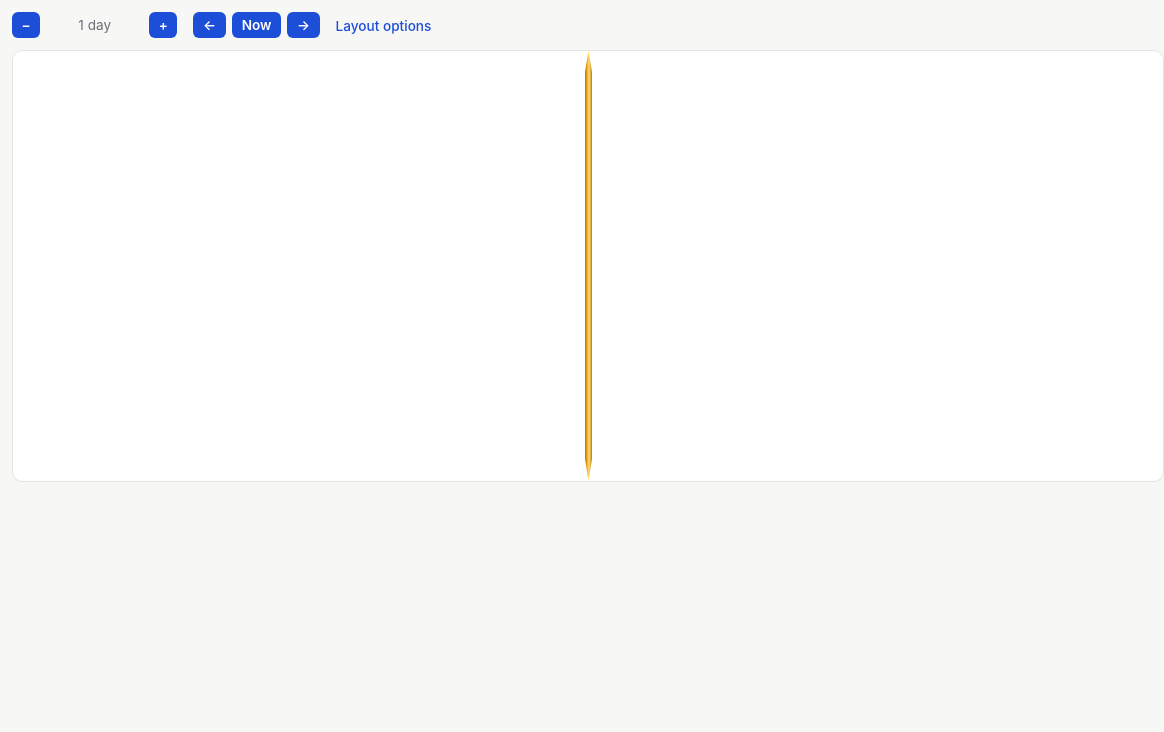
Test: Timeline › keeps layout options behind a disclosure so the toolbar stays quiet
This screenshot has width=1164, height=732.
Click the button "Layout options": (384, 26) [336,15,431,38]
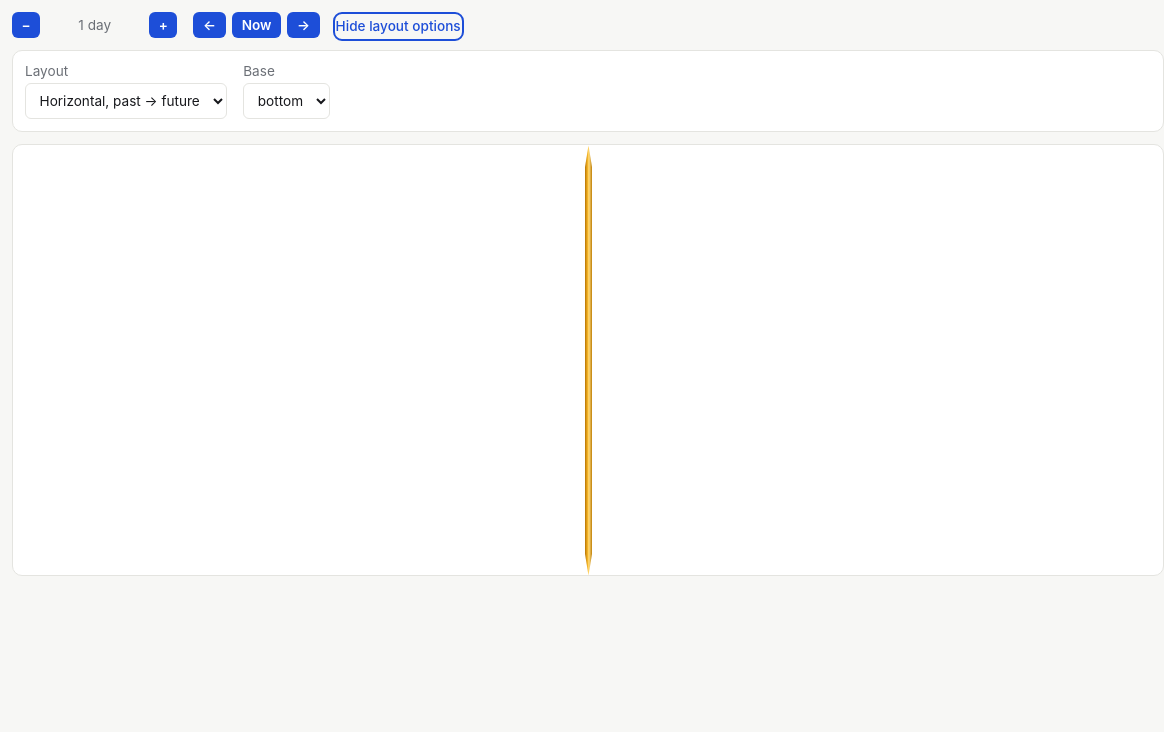
Expected: the dropdown labelled "Layout" is shown, [25,83,227,119]
